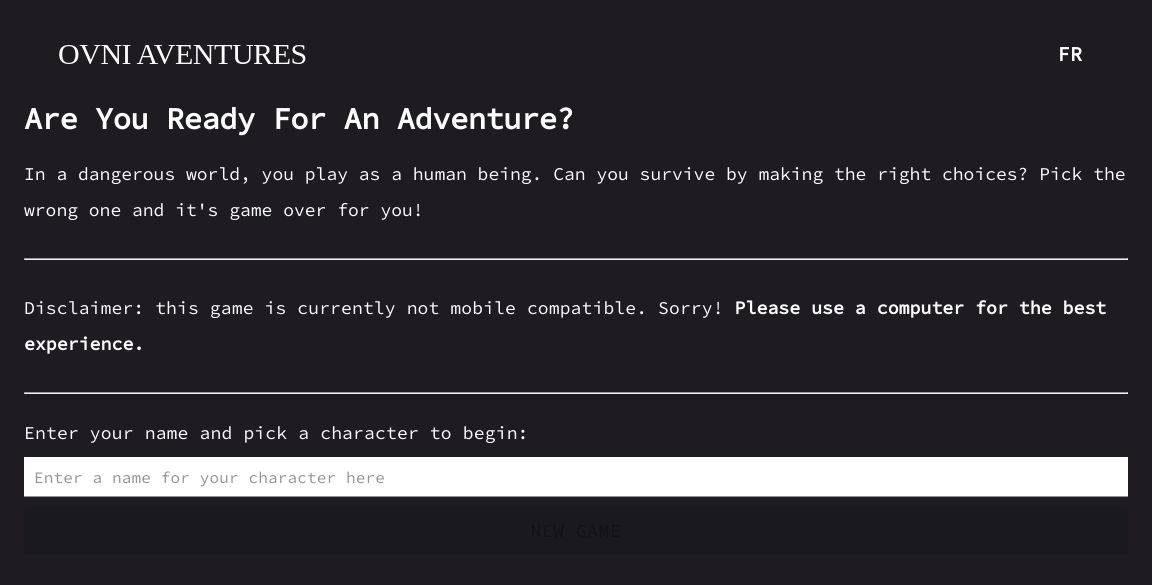
Test: landing page › ensures language changes from EN to FR after clicking language toggle
Check: the header is shown, box left=0, top=0, right=1151, bottom=70
Click the button "FR".
click(1070, 54)  # box left=1038, top=30, right=1102, bottom=77
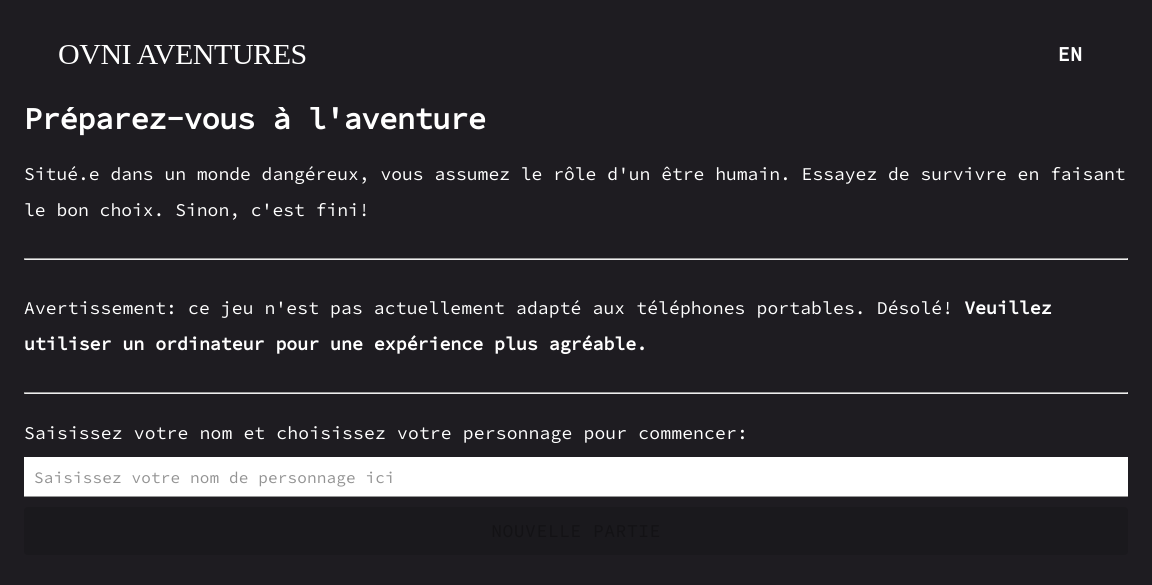
Check: the text "EN" is shown, box left=1057, top=41, right=1083, bottom=66
